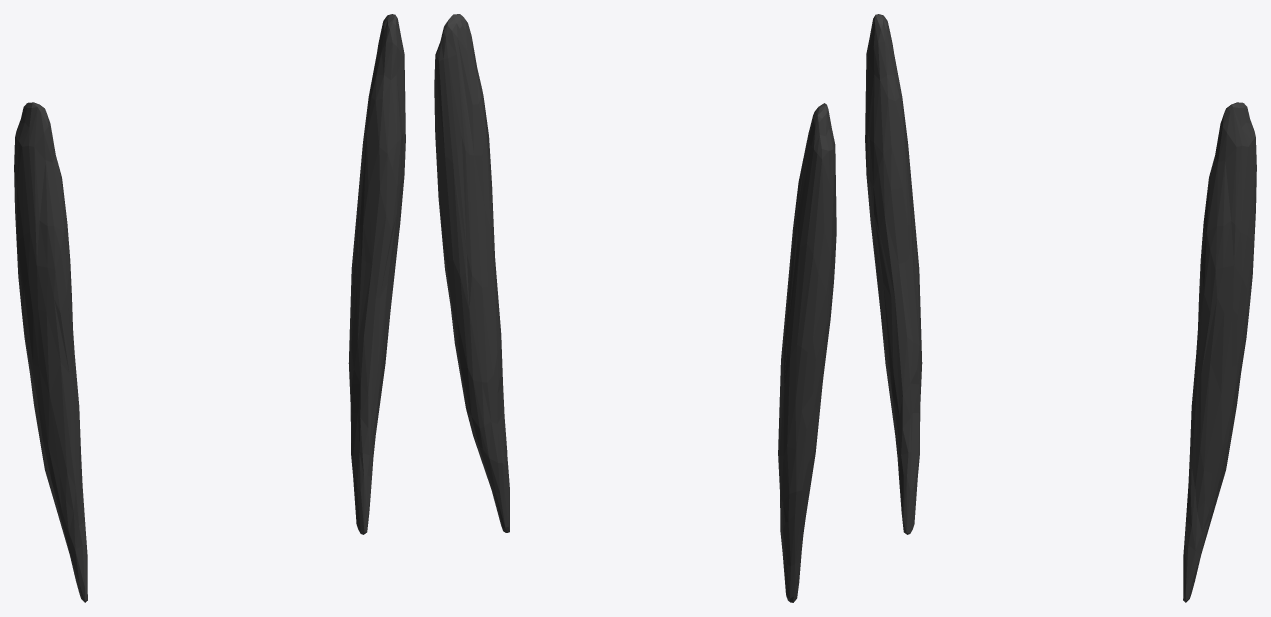
Rendered from m_flexor_carpi_ulnaris_ulnar.glb.
The picture shows the model from 3 angles, left to right: view 1: azimuth 30°, elevation 25°; view 2: azimuth 150°, elevation 25°; view 3: azimuth 330°, elevation 25°; orthographic projection. The views are drawn at different scales.
Visible parts, largest first — view 1: m_flexor_carpi_ulnaris_ulnar; view 2: m_flexor_carpi_ulnaris_ulnar; view 3: m_flexor_carpi_ulnaris_ulnar.
Part boxes in pixels (box(x1,y1,x2,y2)): m_flexor_carpi_ulnaris_ulnar: box(14, 14, 405, 602); m_flexor_carpi_ulnaris_ulnar: box(434, 14, 836, 602); m_flexor_carpi_ulnaris_ulnar: box(865, 14, 1256, 602).
Size of the model in its own units: 0.00549 by 0.00683 by 0.000657.
Materials: 1 (1 with a texture image).
